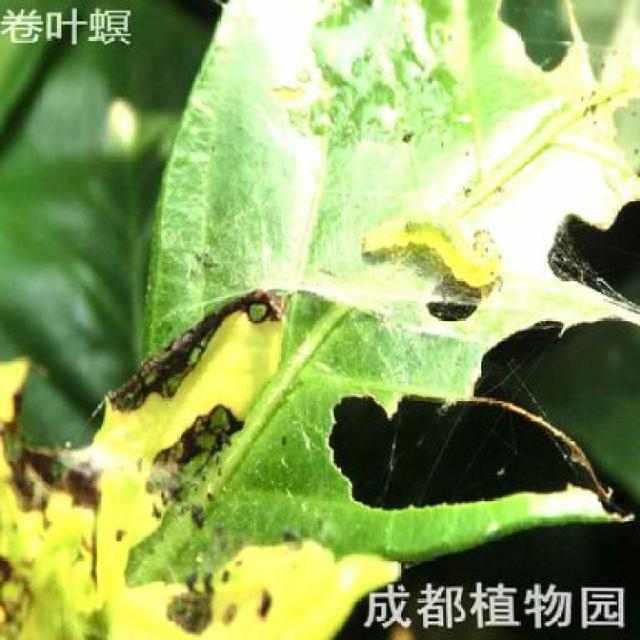leaf-folder: (350, 186, 505, 309)
